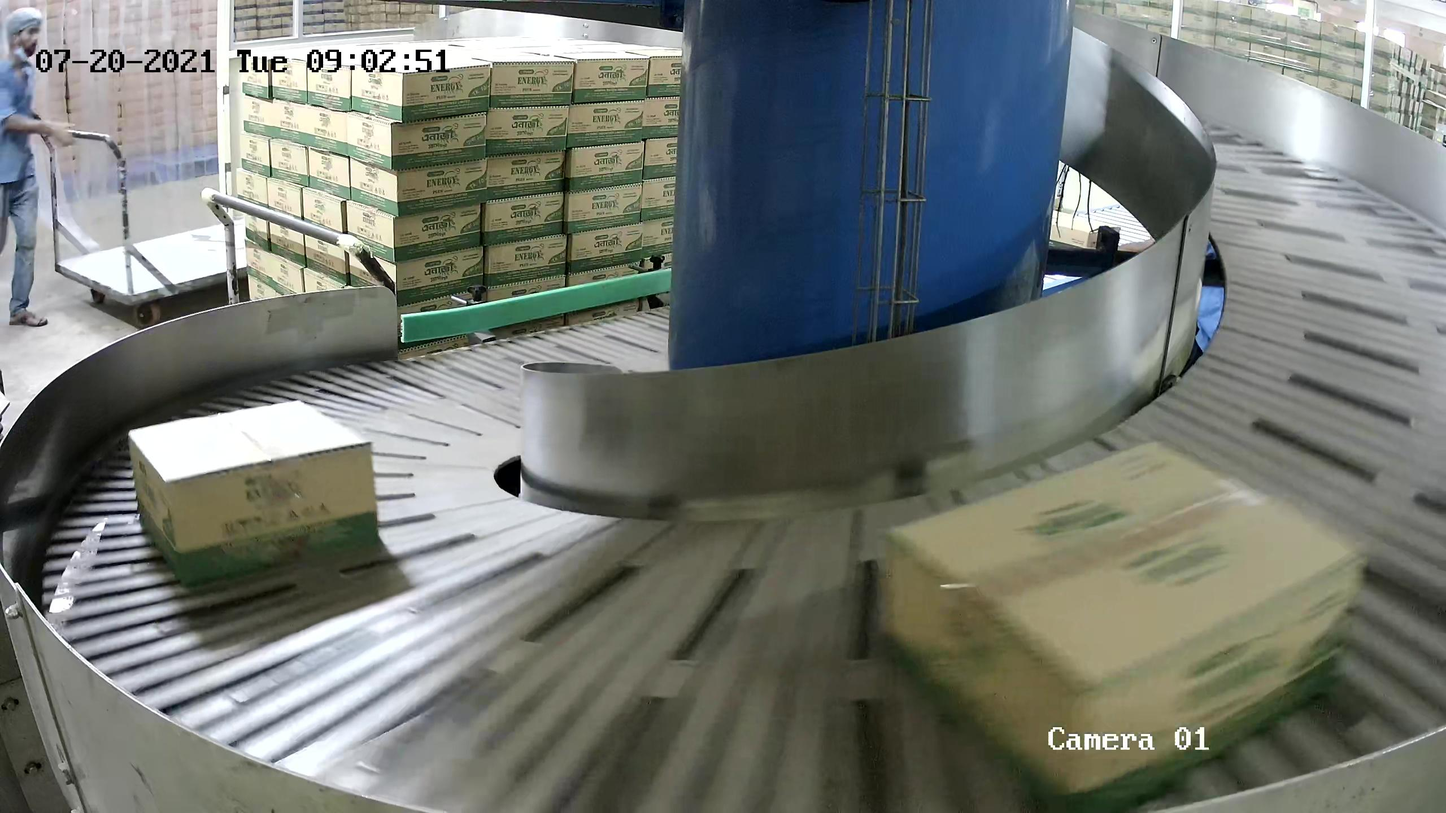Box: (874, 435, 1371, 813), (126, 397, 381, 588)
